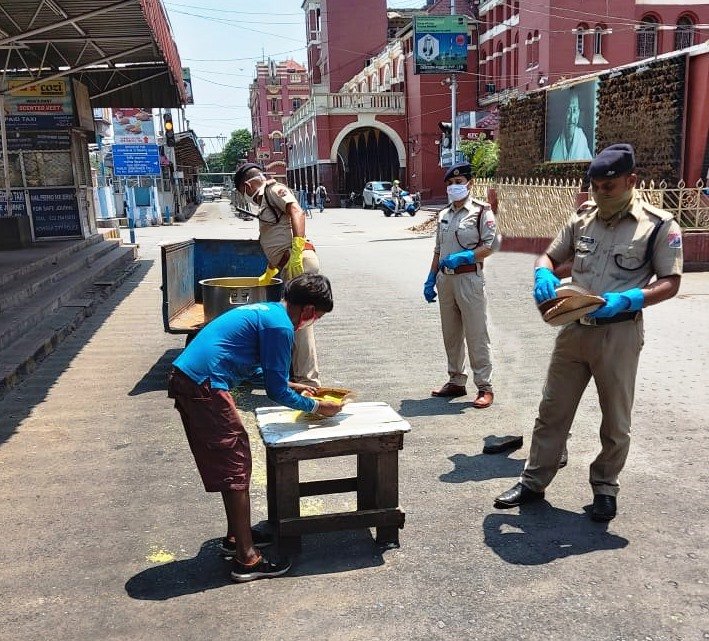person: (284, 276, 338, 337), (589, 154, 640, 210), (442, 164, 480, 208), (234, 166, 273, 205)
